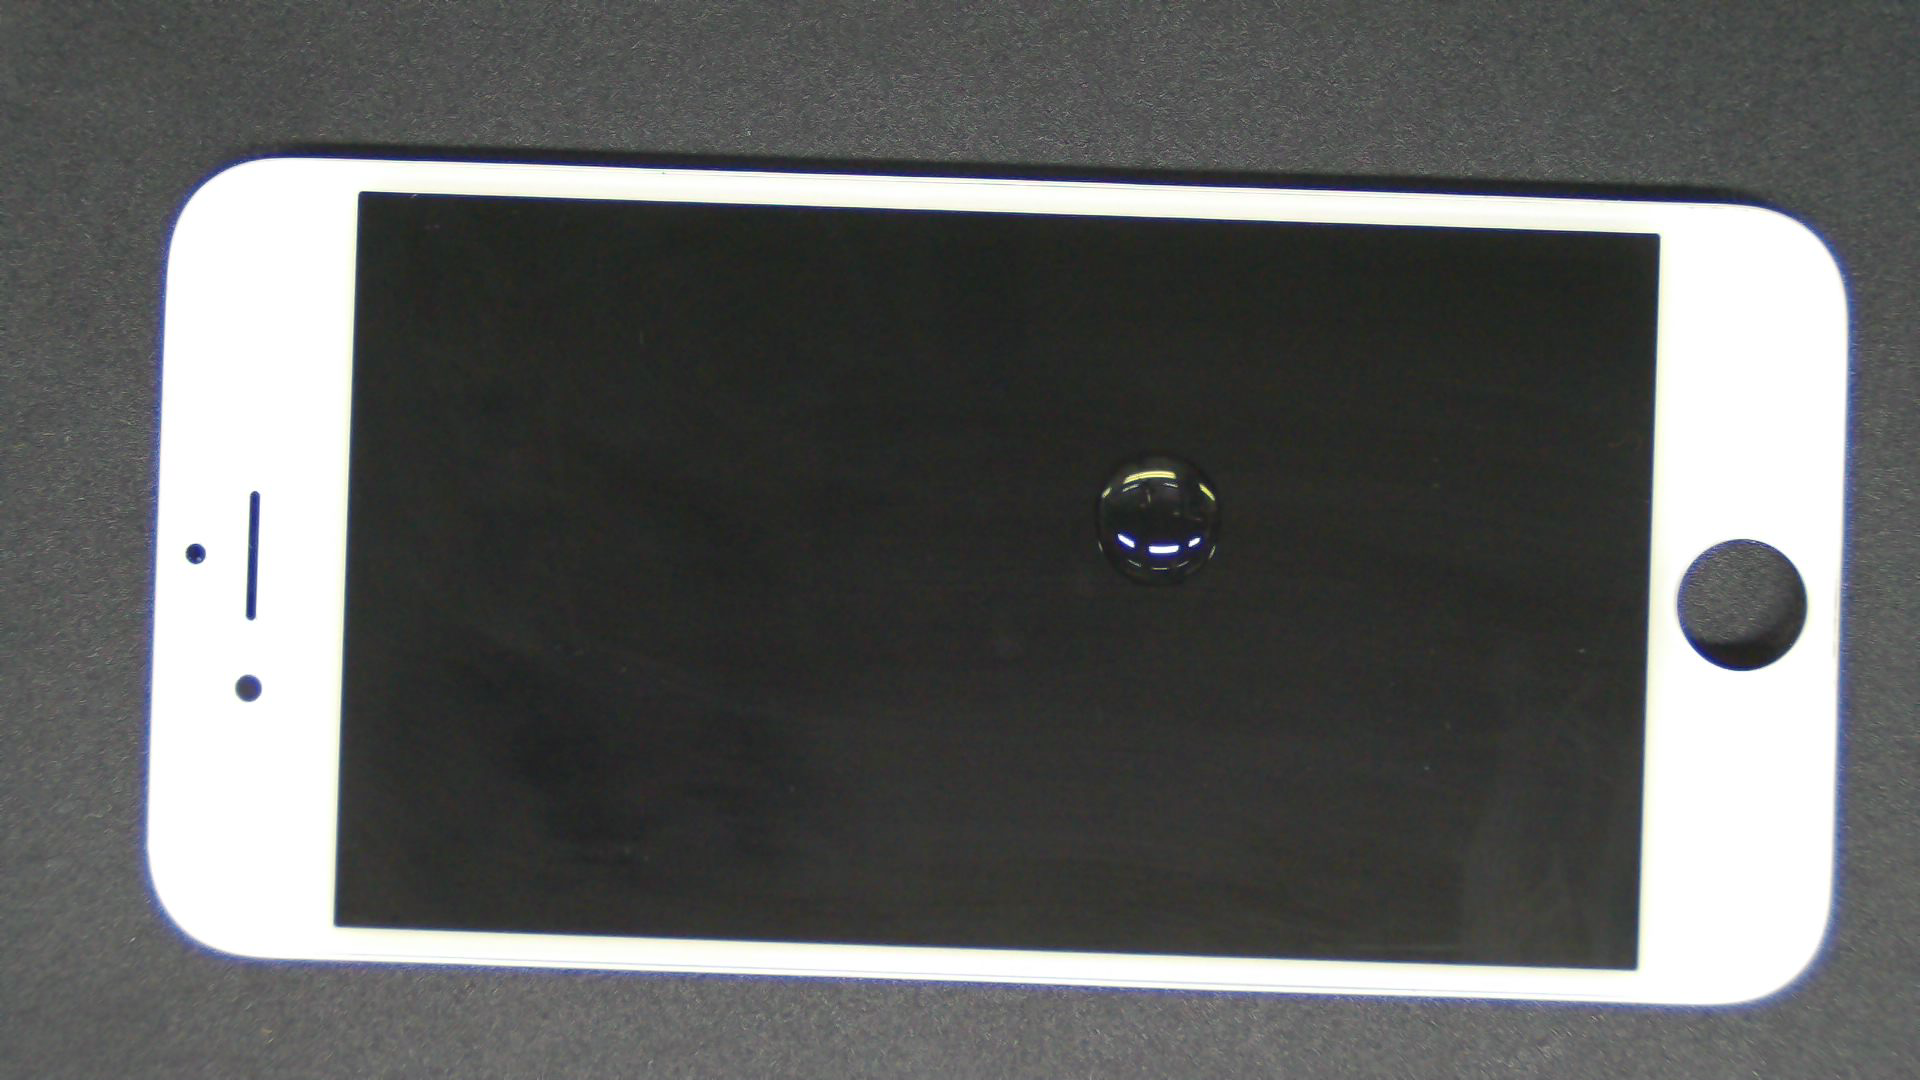defect: (1095, 447, 1222, 587)
